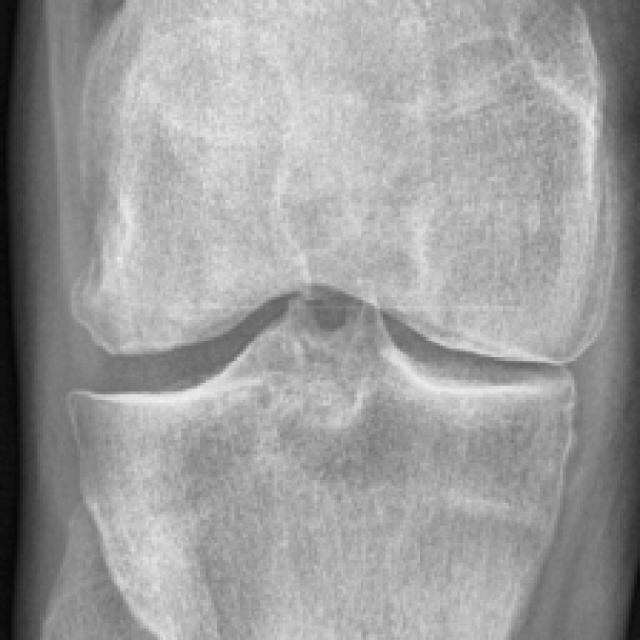femur: (72, 0, 620, 363)
tibia: (64, 300, 572, 640)
